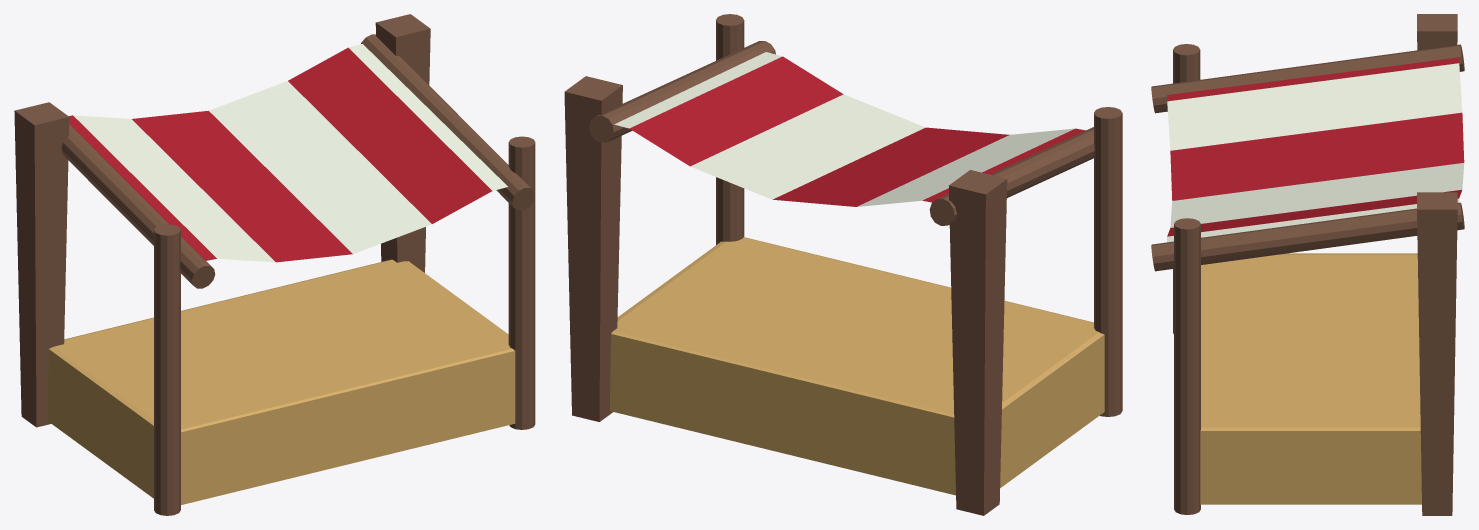
Rendered from MarketStand.fbx.
3 renders of one model, left to right at view 1: azimuth 30°, elevation 25°; view 2: azimuth 150°, elevation 25°; view 3: azimuth 270°, elevation 25°, orthographic. The views are drawn at different scales.
Visible parts, largest first — view 1: Marketstand; view 2: Marketstand; view 3: Marketstand.
Part boxes in pixels (<box>): Marketstand: <box>14,14,535,515</box>; Marketstand: <box>564,14,1122,515</box>; Marketstand: <box>1151,14,1464,515</box>.
Bounding box in the file's own units: 388 × 287 × 262.
